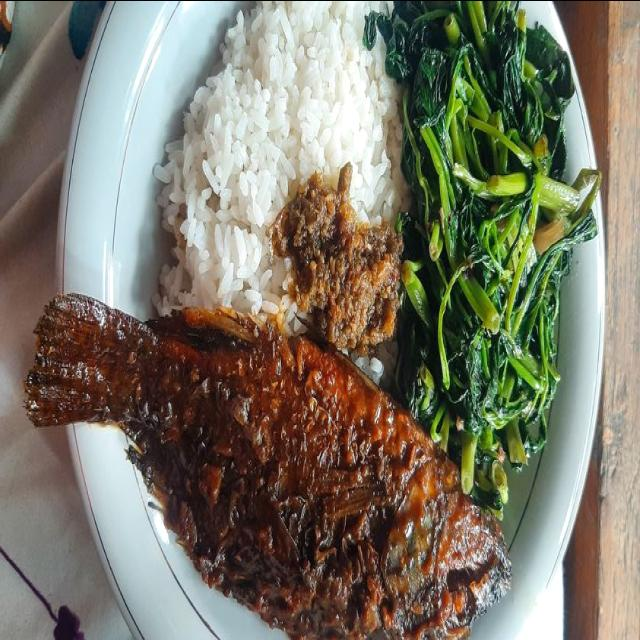ikan bakar: (22, 290, 511, 640)
nasi: (152, 0, 404, 386)
tumis kangkung: (368, 0, 602, 544)
